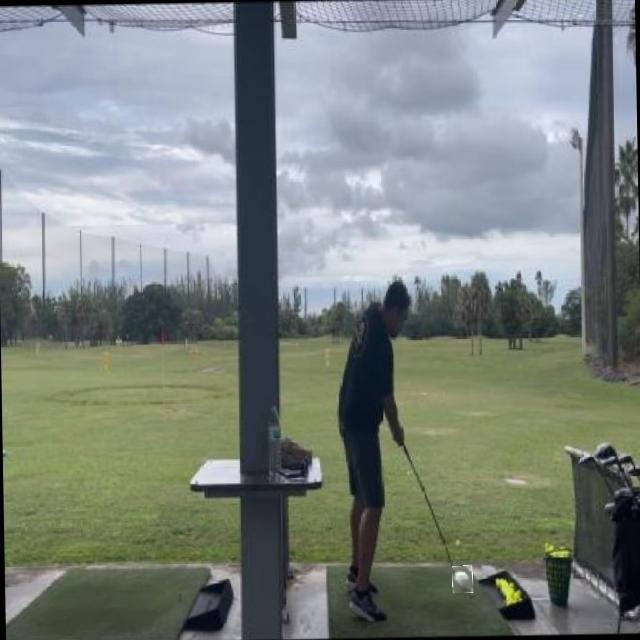club head: (452, 565, 472, 593)
